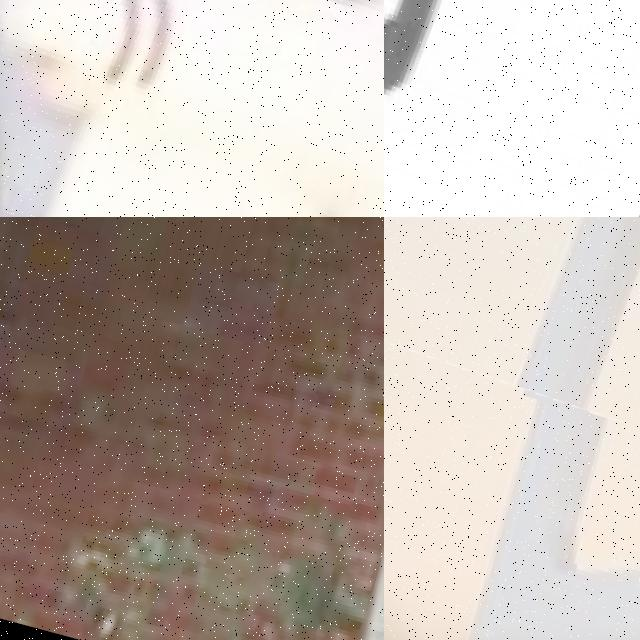0: (0, 0, 384, 217)
drone: (384, 217, 640, 498), (384, 0, 640, 217)
